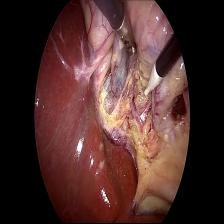Grasper: (118, 16, 139, 60)
Hook: (141, 60, 164, 101)
